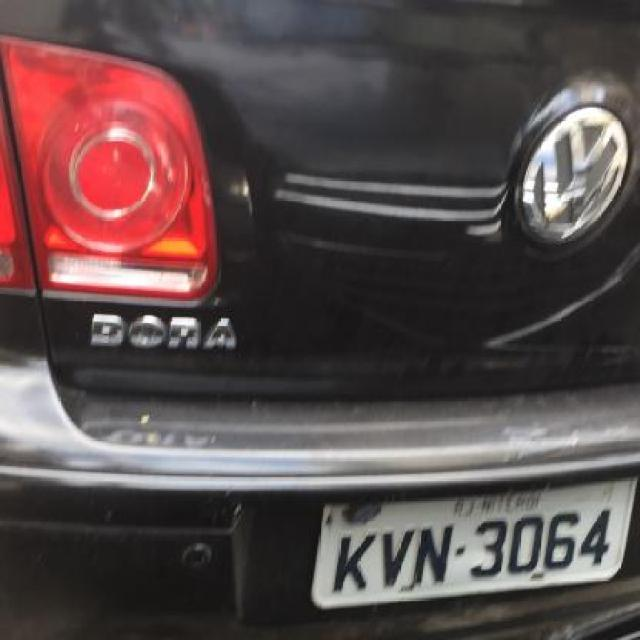old_plate: (302, 460, 640, 616)
